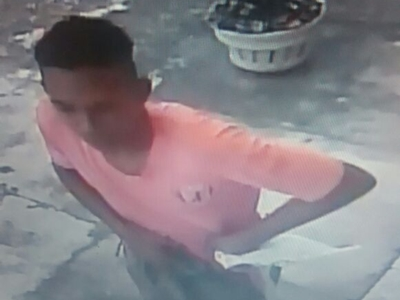Humano: (25, 13, 380, 285)
